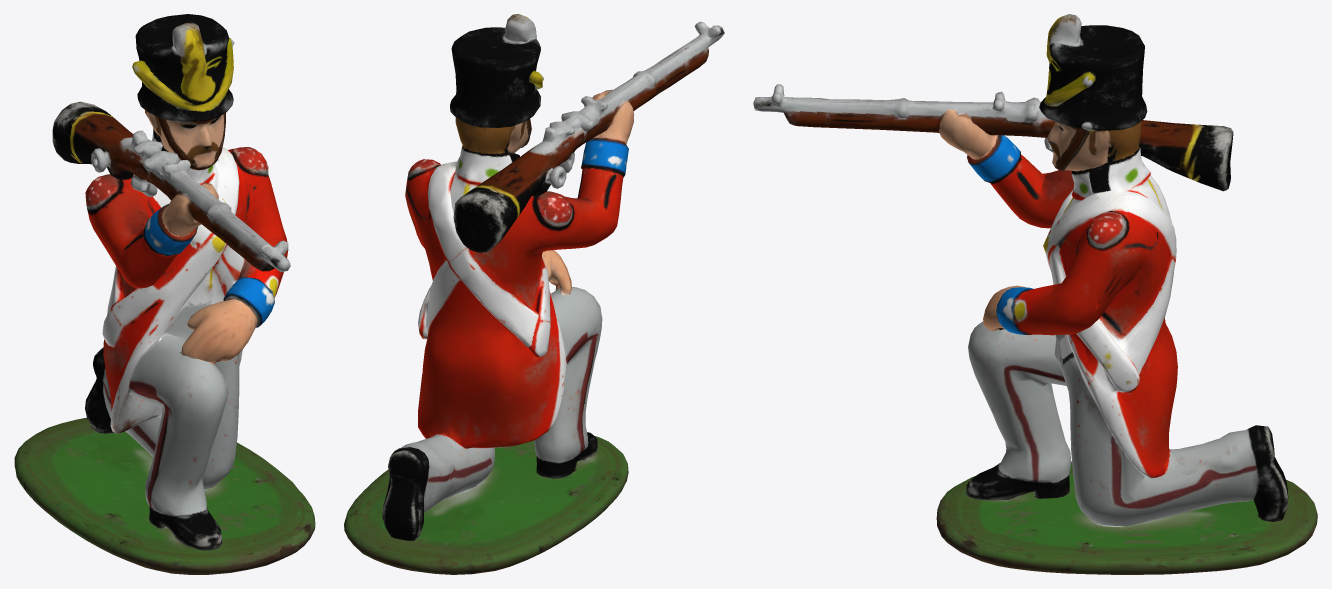
Rendered from inf_kneel.glb.
The picture shows the model from 3 angles, left to right: view 1: azimuth 30°, elevation 25°; view 2: azimuth 150°, elevation 25°; view 3: azimuth 270°, elevation 25°; orthographic projection. The views are drawn at different scales.
Parts seen in each view (by area): view 1: world; view 2: world; view 3: world.
Boxes of the visible parts, x1,y1,x2,y2 form: world: (14, 14, 315, 574); world: (344, 14, 724, 574); world: (753, 14, 1317, 574).
Size of the model in its own units: 0.4391 by 1 by 0.9987.
1 material, 1 textured.
